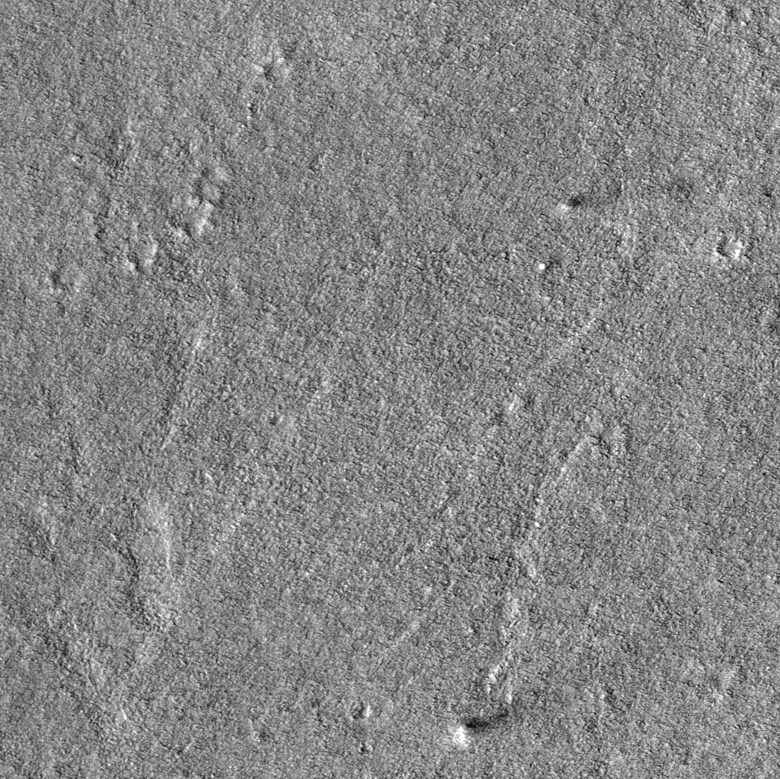dust_devil: (557, 175, 695, 213), (451, 702, 515, 749)
